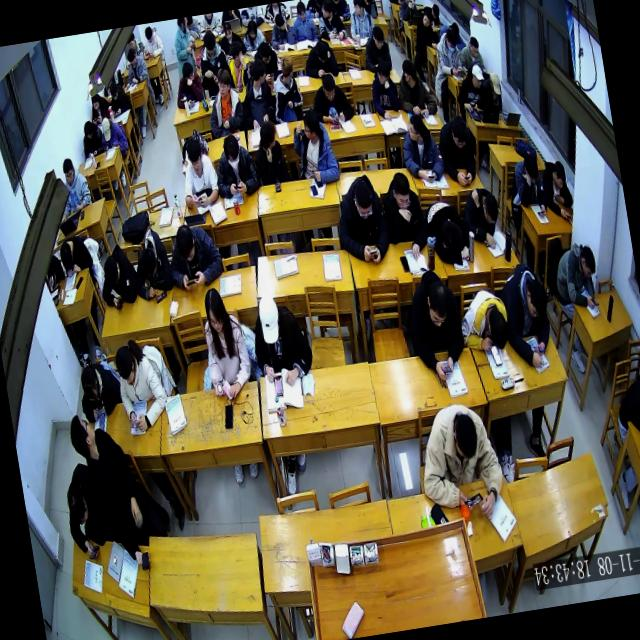bow: (165, 220, 225, 290), (548, 238, 600, 312), (456, 288, 512, 354), (422, 194, 471, 267), (128, 224, 174, 298), (75, 359, 125, 423), (94, 240, 140, 309), (460, 184, 505, 250), (540, 157, 576, 221), (611, 374, 640, 443), (301, 39, 339, 80), (252, 40, 283, 84), (108, 78, 134, 115), (88, 92, 112, 124), (240, 20, 265, 50)
down: (256, 290, 283, 344), (450, 412, 480, 460), (424, 282, 452, 328), (66, 486, 92, 528), (524, 277, 550, 318), (485, 307, 510, 348), (202, 286, 224, 332), (351, 181, 375, 221), (114, 343, 136, 383), (173, 223, 196, 261), (390, 170, 412, 208), (80, 366, 100, 404), (448, 115, 469, 148), (138, 246, 160, 277), (185, 140, 205, 174), (480, 192, 500, 224), (222, 135, 240, 169), (579, 245, 597, 279), (102, 254, 122, 284), (522, 153, 540, 184), (58, 239, 75, 269), (550, 160, 566, 190), (320, 74, 336, 102), (471, 64, 486, 90), (202, 29, 217, 54), (444, 28, 459, 53), (100, 116, 113, 142), (372, 26, 386, 50), (489, 72, 503, 96), (315, 40, 330, 62), (258, 42, 272, 62), (82, 118, 94, 140), (468, 37, 480, 59), (296, 1, 308, 22), (108, 80, 120, 99), (246, 18, 258, 36), (222, 21, 232, 40), (90, 92, 100, 110), (145, 27, 154, 43), (431, 5, 440, 19)
lookup: (61, 155, 78, 187), (215, 67, 232, 97)
sit: (68, 404, 176, 576), (412, 398, 509, 529), (402, 268, 468, 382), (196, 284, 256, 402), (246, 287, 316, 388), (496, 260, 556, 370), (330, 172, 392, 268), (112, 336, 170, 432), (60, 459, 107, 562), (379, 167, 430, 259), (289, 106, 341, 186), (426, 30, 469, 120), (398, 111, 446, 184), (210, 132, 262, 199), (176, 136, 221, 208), (203, 66, 247, 138), (436, 115, 478, 187), (504, 152, 548, 219), (235, 57, 278, 125), (394, 56, 438, 121), (266, 52, 305, 121), (251, 120, 291, 186), (308, 70, 354, 122), (56, 155, 93, 213), (368, 59, 402, 122), (194, 28, 232, 80), (170, 59, 206, 110), (454, 64, 489, 114), (360, 24, 392, 72), (58, 234, 94, 276), (407, 9, 440, 54), (315, 0, 348, 43), (172, 17, 198, 70), (225, 37, 252, 85), (287, 0, 318, 41), (345, 0, 376, 40), (266, 11, 296, 50), (98, 114, 128, 152), (458, 36, 486, 75), (124, 46, 150, 85), (218, 20, 246, 56), (80, 118, 106, 156), (140, 24, 166, 60), (482, 72, 504, 114), (396, 0, 419, 22)
